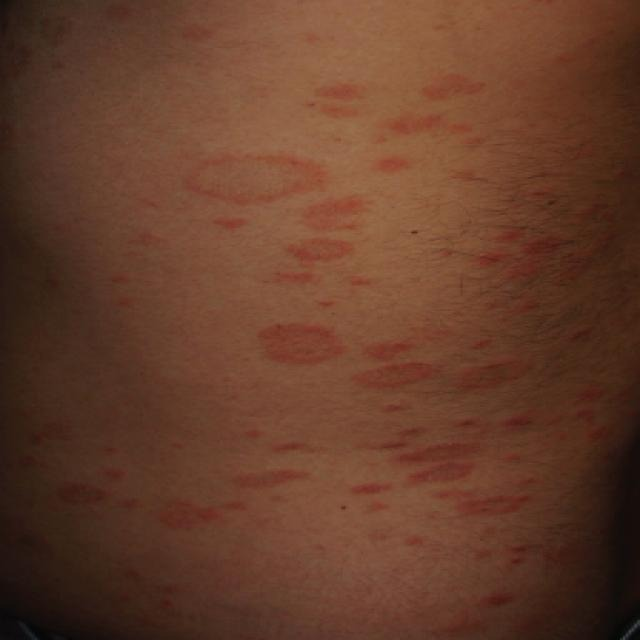Ringworm: (175, 127, 333, 215), (248, 297, 352, 390), (448, 350, 540, 415), (285, 220, 363, 278), (350, 347, 438, 397)
